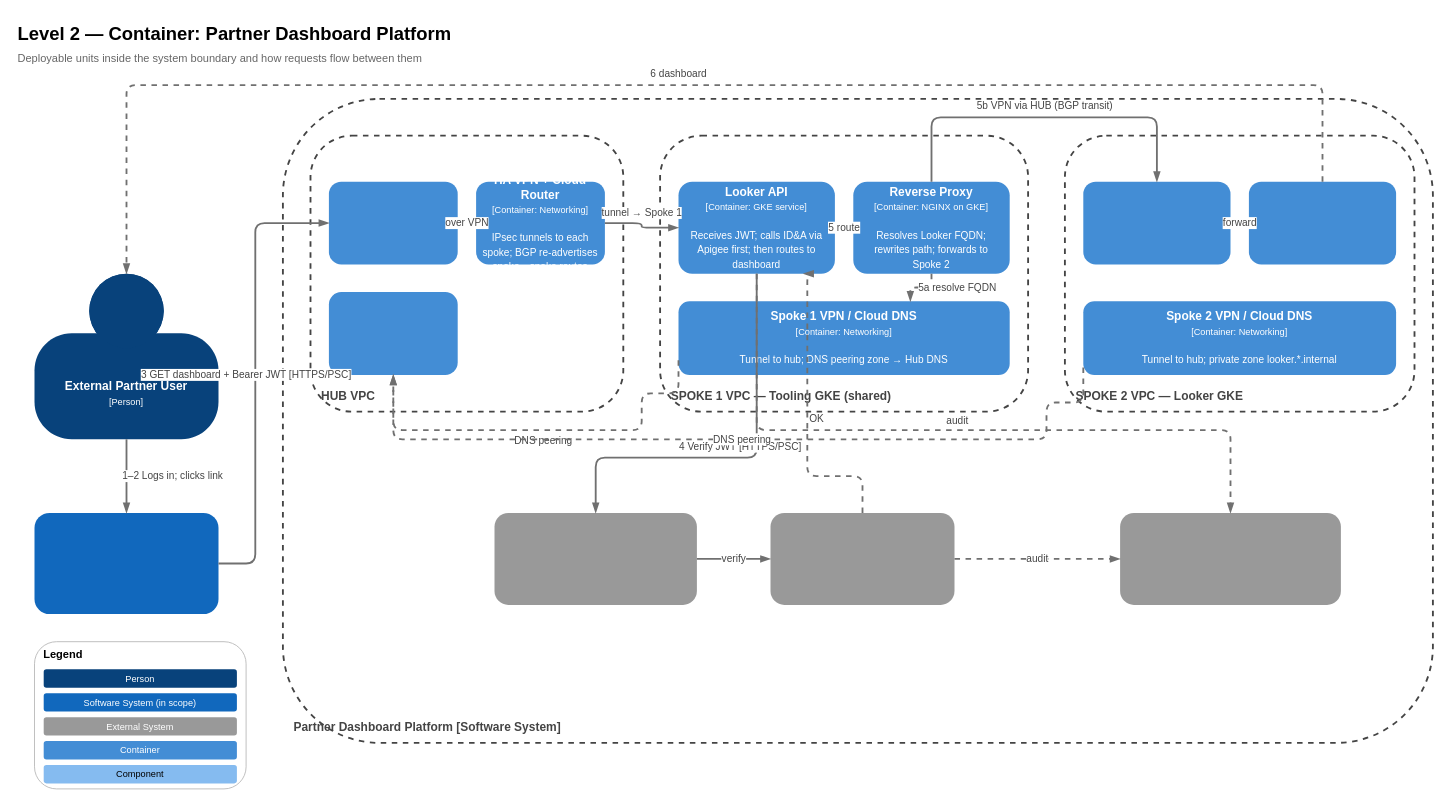
The diagram is 1449 pixels wide and 805 high, and some of its shapes have lost their labels. The shapes that lost their labels are listed below. From the top down, each one's centre as x and y in pixels, then its label:
point (392, 222): Hub Entry [Container: Internal LB + PSC] Single private entry point for spokes
point (1156, 222): Looker Entry [Container: Internal LB] Cluster ingress for Looker
point (1322, 222): Looker [Container: Looker image on GKE] Renders partner dashboards
point (392, 333): Hub Cloud DNS [Container: DNS] Peering target for spoke DNS zones
point (126, 563): Central WebApp [Software System] Holds session + JWT; calls the platform
point (595, 558): Apigee X — Internal Proxy [External System] Fronts ID&A token verification
point (862, 558): ID&A Auth API [External System] Verifies JWT
point (1230, 558): Cloud Logging & Monitoring [External System] Audit + alerting
